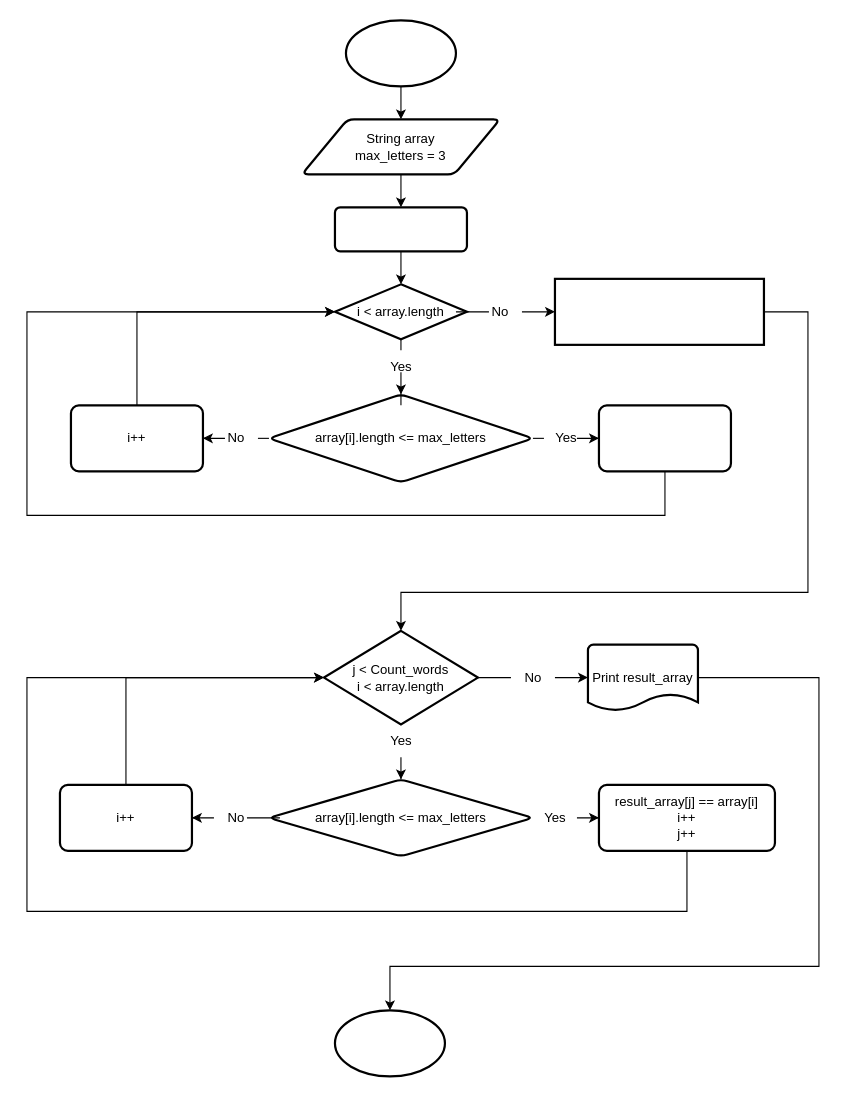
Some shapes in this 847 by 1096 pixel diagram are drawn without their labels. The shapes that lost their labels are listed below. From the top down, each one's centre as x and y in pixels, then its label:
At (x=400, y=53): "Start".
At (x=400, y=229): "Count_words = 0 i = 0".
At (x=659, y=311): "String result_array i == 0 j = 0".
At (x=664, y=438): "i++ Count_words++".
At (x=389, y=1043): "End".
